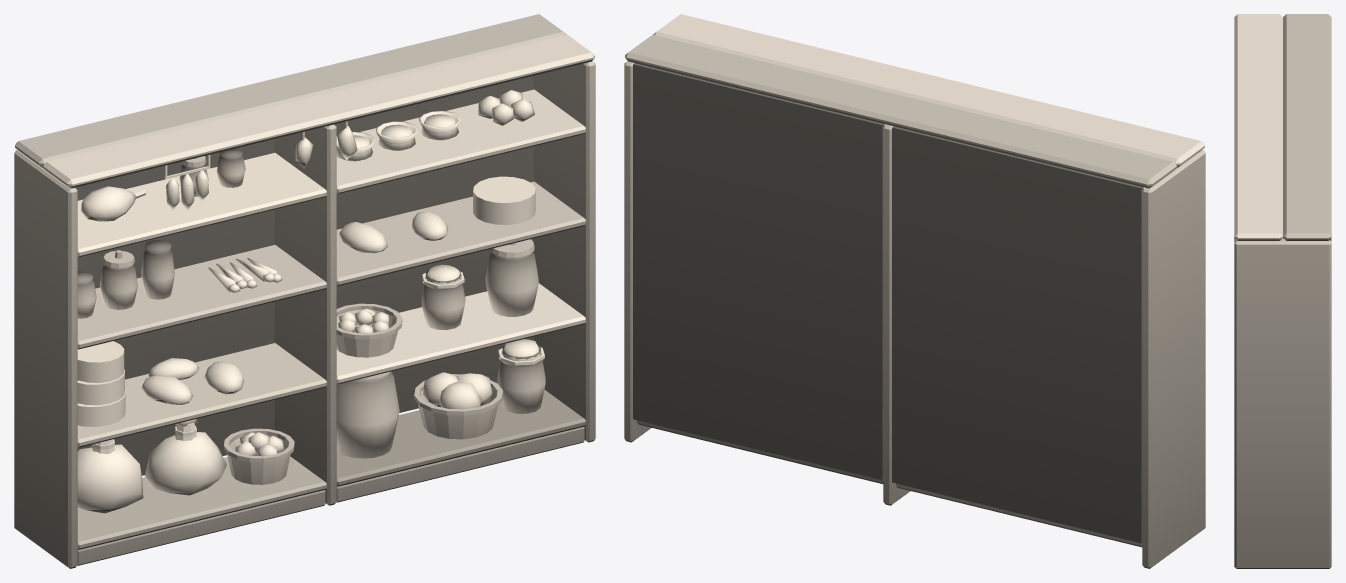
File: SM_VKI_Prop_Pantry_Shelves_300.fbx
3 renders of one model, left to right at view 1: azimuth 30°, elevation 25°; view 2: azimuth 150°, elevation 25°; view 3: azimuth 270°, elevation 25°, orthographic. The views are drawn at different scales.
Parts seen in each view (by area): view 1: SM_VKI_Prop_Pantry_Shelves_300.001; view 2: SM_VKI_Prop_Pantry_Shelves_300.001; view 3: SM_VKI_Prop_Pantry_Shelves_300.001.
Part boxes in pixels (bbox=[...]): SM_VKI_Prop_Pantry_Shelves_300.001: bbox=[14, 14, 595, 568]; SM_VKI_Prop_Pantry_Shelves_300.001: bbox=[624, 14, 1205, 568]; SM_VKI_Prop_Pantry_Shelves_300.001: bbox=[1234, 14, 1331, 568].
Bounding box in the file's own units: 2.7 × 1.9 × 0.5.
